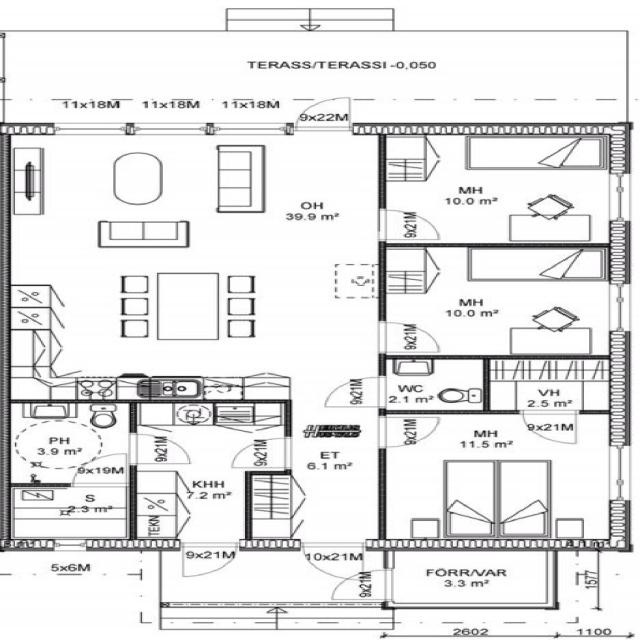door: (289, 95, 356, 133), (176, 542, 241, 581), (298, 542, 368, 578), (373, 206, 442, 242), (125, 429, 192, 466), (318, 374, 388, 408), (378, 412, 443, 448), (66, 453, 132, 488), (376, 319, 440, 355), (519, 408, 579, 445), (324, 570, 388, 602)
window: (603, 445, 635, 504), (202, 119, 294, 138), (605, 171, 635, 226), (604, 282, 635, 334), (125, 120, 211, 138), (47, 120, 132, 137), (271, 435, 299, 471), (370, 318, 394, 356), (48, 538, 90, 554)
zone: (10, 133, 378, 401), (380, 412, 615, 544), (378, 244, 622, 357), (380, 138, 626, 242), (132, 403, 292, 473), (6, 402, 135, 485), (384, 550, 556, 608), (5, 484, 131, 547), (484, 358, 613, 412), (379, 357, 485, 411), (467, 134, 614, 170), (468, 246, 612, 281), (97, 221, 187, 248)
